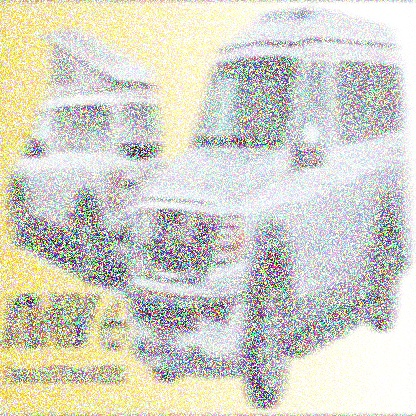Vehicle: (130, 5, 411, 411)
